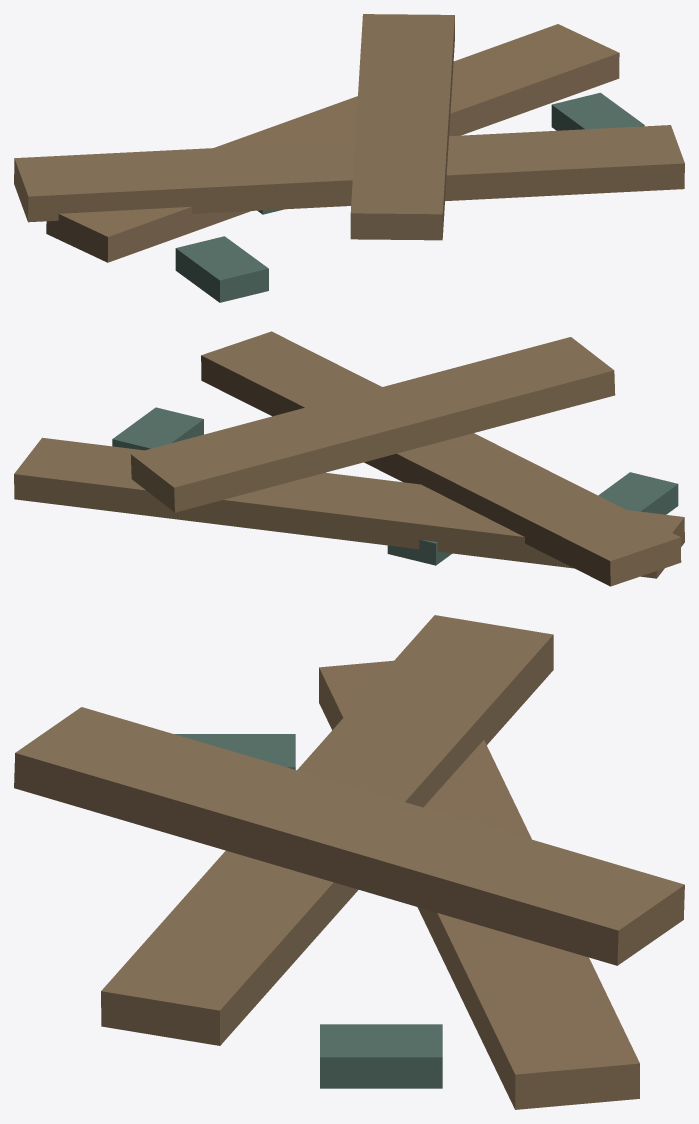
File: SW_Drift_Planks.fbx
3 views of the same model, one above another, from view 1: azimuth 30°, elevation 25°; view 2: azimuth 150°, elevation 25°; view 3: azimuth 270°, elevation 25° (orthographic). The views are drawn at different scales.
Visible parts, largest first — view 1: SW_Drift_Planks; view 2: SW_Drift_Planks; view 3: SW_Drift_Planks.
Part boxes in pixels (x1=…): SW_Drift_Planks: x1=14, y1=14, x2=684, y2=302; SW_Drift_Planks: x1=14, y1=331, x2=684, y2=586; SW_Drift_Planks: x1=14, y1=615, x2=684, y2=1109.
Size of the model in its own units: 2.03 by 0.28 by 1.37.
